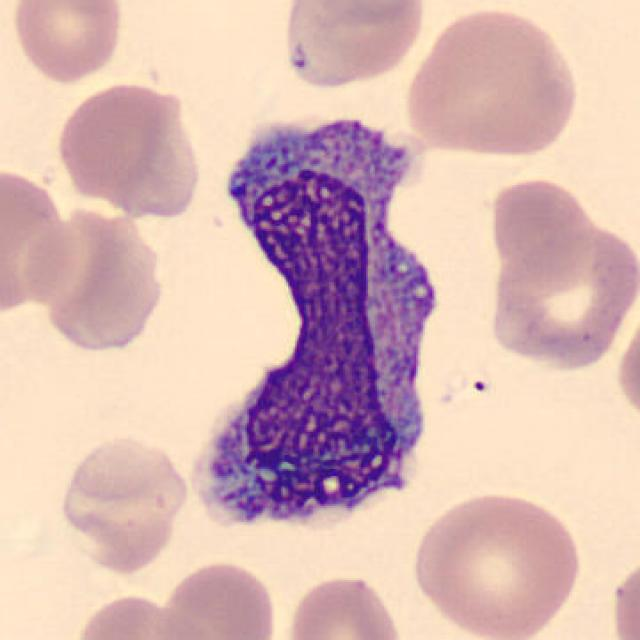Monocyte: (181, 111, 455, 561)
RBC: (400, 3, 583, 160), (405, 486, 584, 640), (484, 220, 638, 374), (32, 207, 168, 356), (54, 432, 190, 576), (54, 78, 182, 204), (278, 0, 430, 92), (0, 158, 76, 317), (485, 173, 594, 280), (155, 557, 281, 640), (8, 0, 126, 86), (281, 569, 409, 640), (69, 590, 215, 640), (611, 296, 640, 432), (291, 0, 430, 26), (608, 548, 640, 640)
